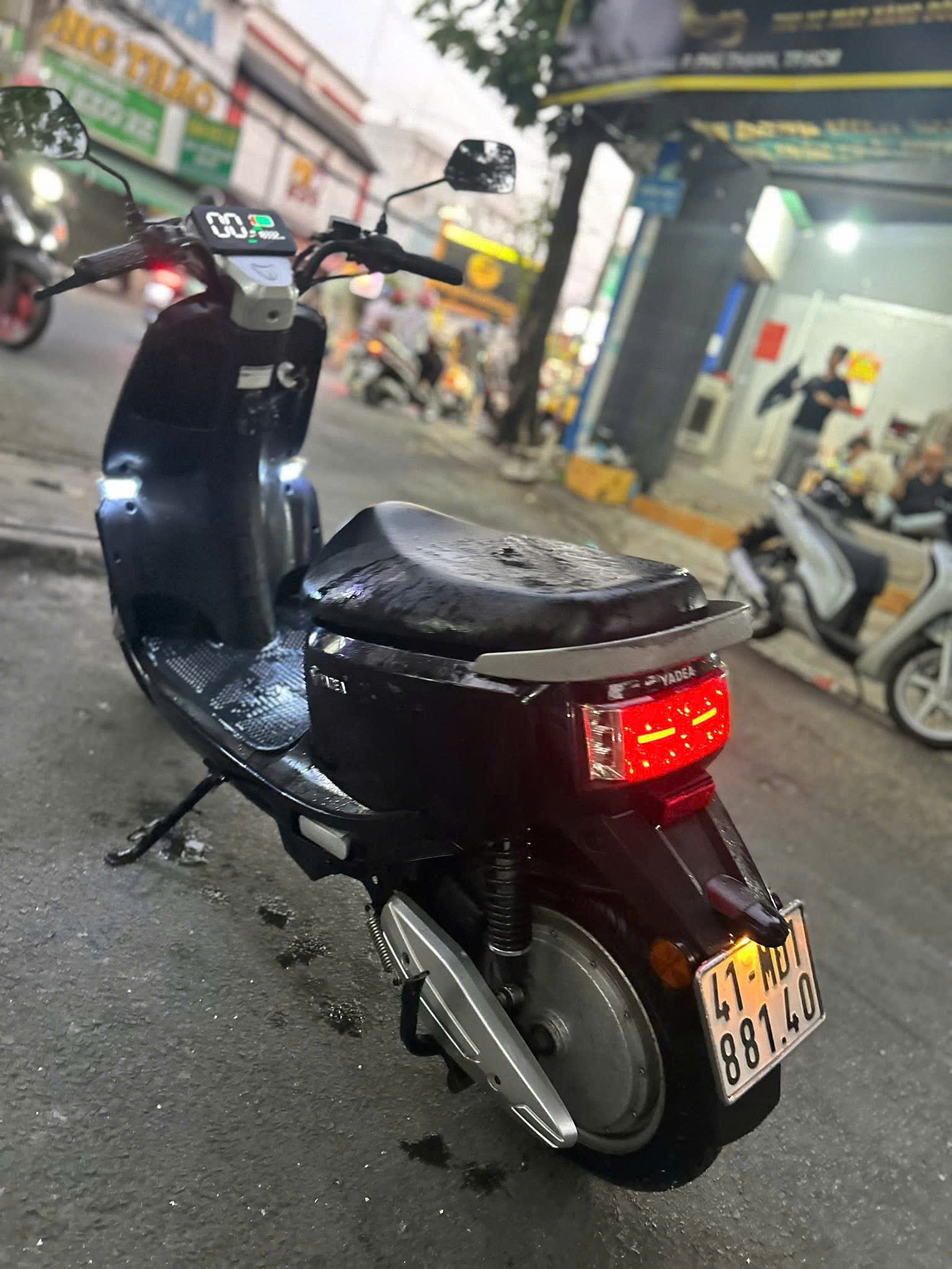Bien-so: (698, 895, 836, 1105)
